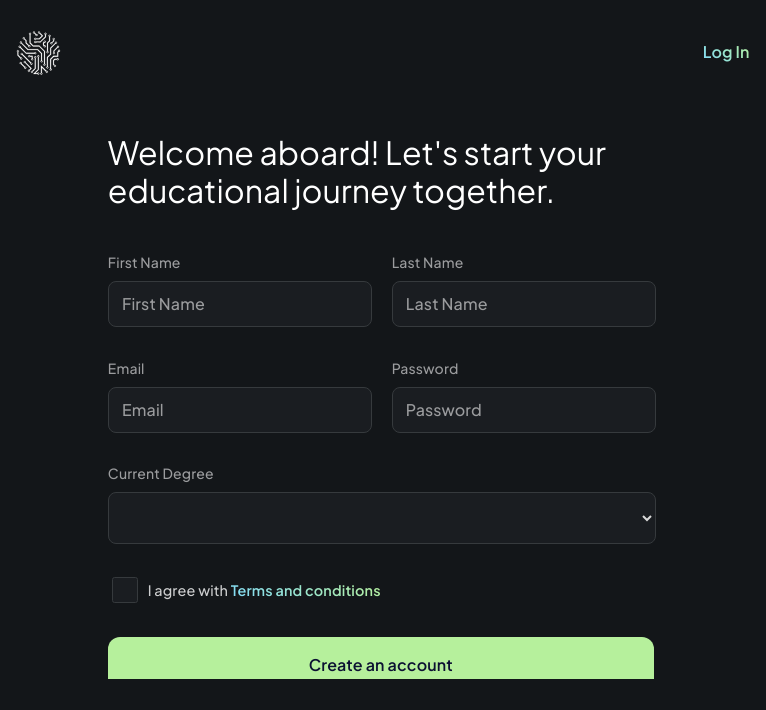
Test: Register › displays all error messages when form is submitted empty
The width and height of the screenshot is (766, 710).
Click the button "Create an account": point(381, 665) [108, 637, 654, 694]
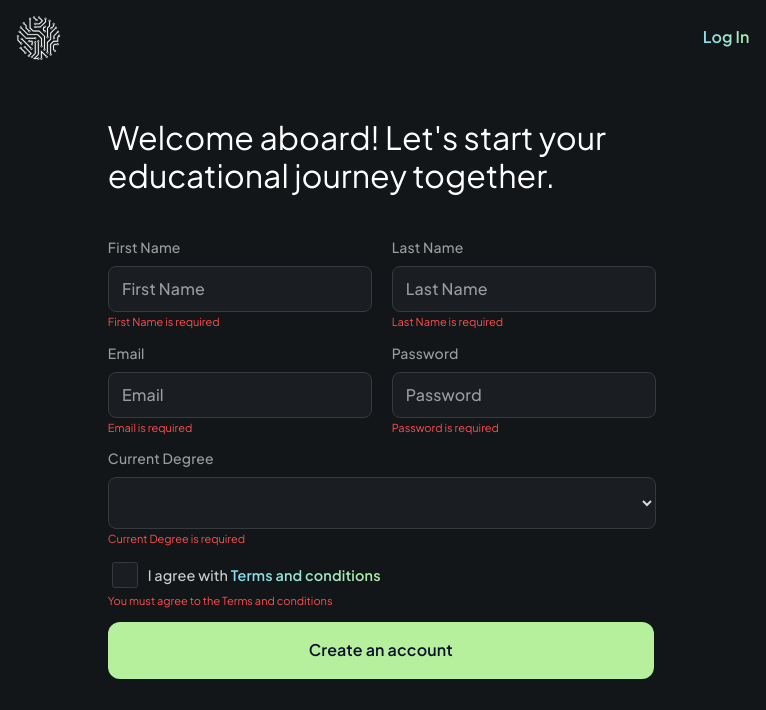
expect the text "First Name is required" is shown: met, box [108, 315, 220, 328]
expect the text "Last Name is required" is shown: met, box [392, 315, 503, 328]
expect the text "Email is required" is shown: met, box [108, 421, 192, 434]
